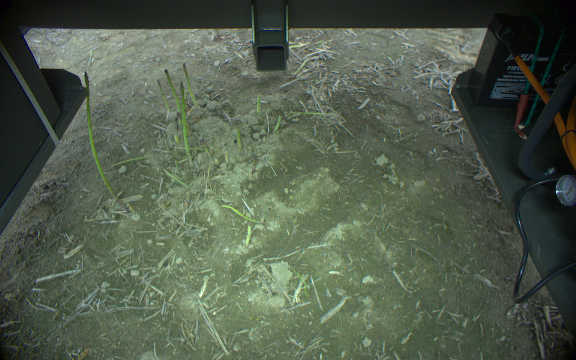aspa: (79, 71, 130, 213), (178, 82, 193, 163), (220, 203, 266, 227), (180, 62, 198, 105), (164, 67, 180, 114), (109, 151, 153, 167), (156, 78, 172, 114), (284, 107, 336, 118), (293, 57, 312, 76), (271, 113, 284, 135), (231, 125, 242, 148), (242, 224, 253, 247), (289, 41, 309, 51), (252, 91, 261, 113)
